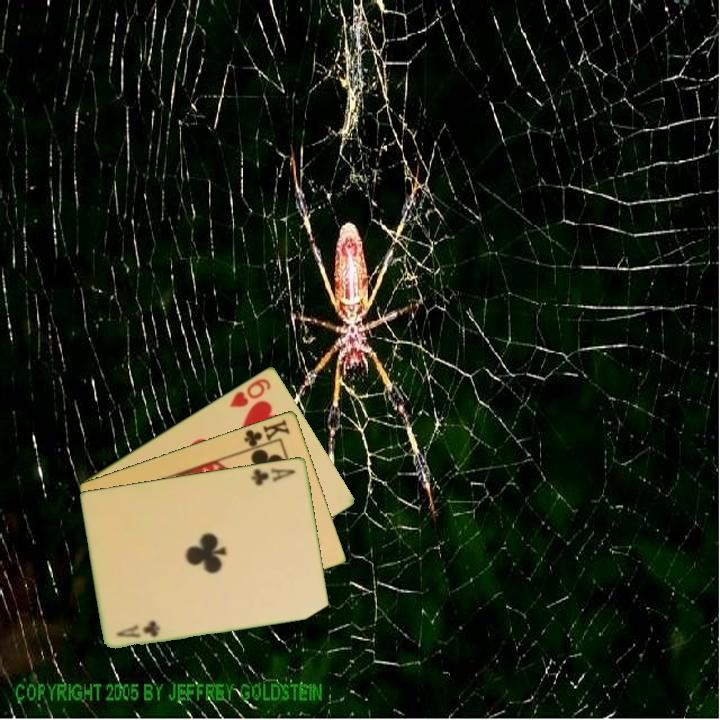6h: (226, 374, 274, 410)
Ac: (113, 616, 163, 641), (248, 464, 298, 488)
Kc: (240, 415, 293, 453)
